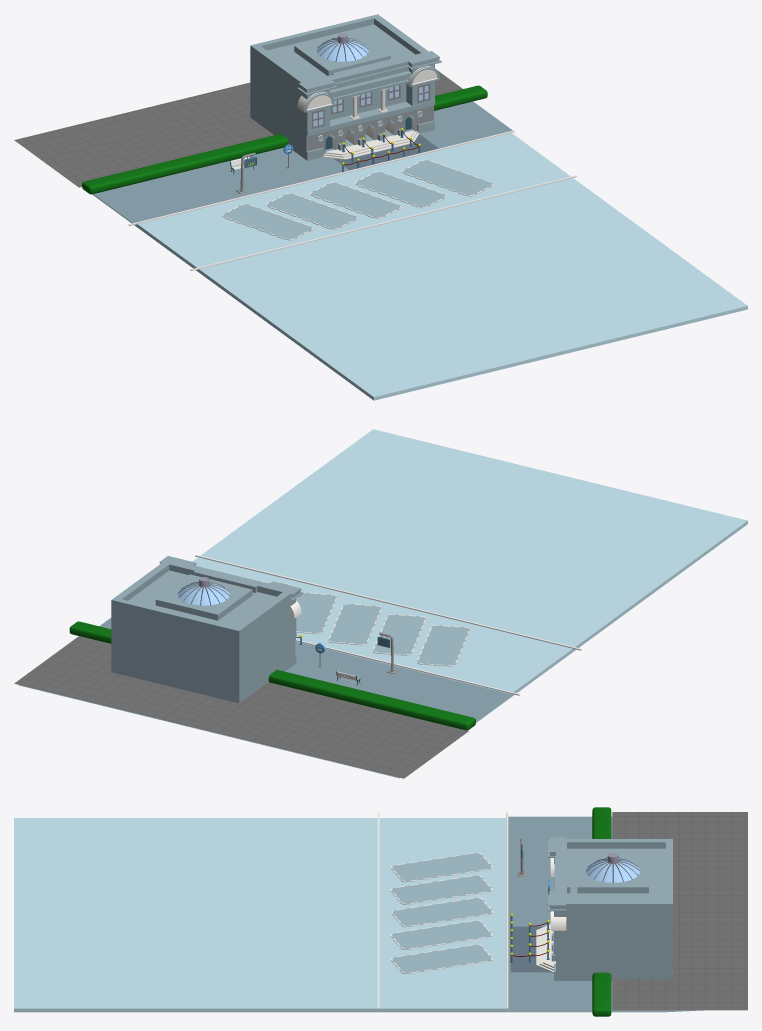
Rendered from Library Env Up.fbx.
3 renders of one model, top to bottom at view 1: azimuth 30°, elevation 25°; view 2: azimuth 150°, elevation 25°; view 3: azimuth 270°, elevation 25°, orthographic. The views are drawn at different scales.
Parts seen in each view (by area): view 1: main_base003.001, Amiga_Days_Museum_obj.001, Plane004.001, base_midblue.001, Box009.001, curb003.001, vehicle_stand012.002, vehicle_stand012.039, vehicle_stand012, vehicle_stand012.001, vehicle_stand012.044, house_floor_004.001 (+1 smaller); view 2: main_base003.001, Plane004.001, Amiga_Days_Museum_obj.001, base_midblue.001, Box009.001, vehicle_stand012.044, curb003.001, vehicle_stand012, vehicle_stand012.039, vehicle_stand012.002, Box014.001; view 3: main_base003.001, Plane004.001, Amiga_Days_Museum_obj.001, base_midblue.001, vehicle_stand012.039, vehicle_stand012.044, vehicle_stand012, vehicle_stand012.002, vehicle_stand012.001, house_floor_004.001, curb003.001, Box014.001 (+2 smaller).
Part boxes in pixels (x1,y1,x2,y2): main_base003.001: [92, 133, 747, 400]; Amiga_Days_Museum_obj.001: [250, 14, 441, 160]; Plane004.001: [14, 69, 462, 187]; base_midblue.001: [93, 101, 512, 223]; Box009.001: [82, 133, 288, 194]; curb003.001: [128, 130, 576, 270]; vehicle_stand012.002: [354, 171, 446, 208]; vehicle_stand012.039: [265, 193, 358, 229]; vehicle_stand012: [221, 203, 313, 240]; vehicle_stand012.001: [401, 159, 494, 196]; vehicle_stand012.044: [309, 182, 401, 218]; house_floor_004.001: [333, 134, 438, 170]; main_base003.001: [192, 429, 747, 722]; Plane004.001: [14, 636, 468, 778]; Amiga_Days_Museum_obj.001: [111, 556, 303, 703]; base_midblue.001: [18, 618, 512, 778]; Box009.001: [268, 670, 475, 730]; vehicle_stand012.044: [328, 603, 381, 645]; curb003.001: [195, 555, 581, 695]; vehicle_stand012: [417, 625, 470, 666]; vehicle_stand012.039: [373, 614, 425, 655]; vehicle_stand012.002: [296, 592, 336, 634]; Box014.001: [69, 621, 111, 643]; main_base003.001: [14, 818, 703, 1012]; Plane004.001: [612, 812, 747, 1010]; Amiga_Days_Museum_obj.001: [536, 837, 672, 980]; base_midblue.001: [508, 816, 612, 1010]; vehicle_stand012.039: [390, 875, 492, 904]; vehicle_stand012.044: [391, 897, 493, 927]; vehicle_stand012: [390, 852, 492, 882]; vehicle_stand012.002: [390, 920, 492, 949]; vehicle_stand012.001: [391, 944, 492, 974]; house_floor_004.001: [510, 926, 551, 972]; curb003.001: [377, 812, 508, 1009]; Box014.001: [592, 972, 611, 1016].
Size of the model in its own units: 103 by 22.84 by 157.
Materials: 24 (2 with a texture image).
